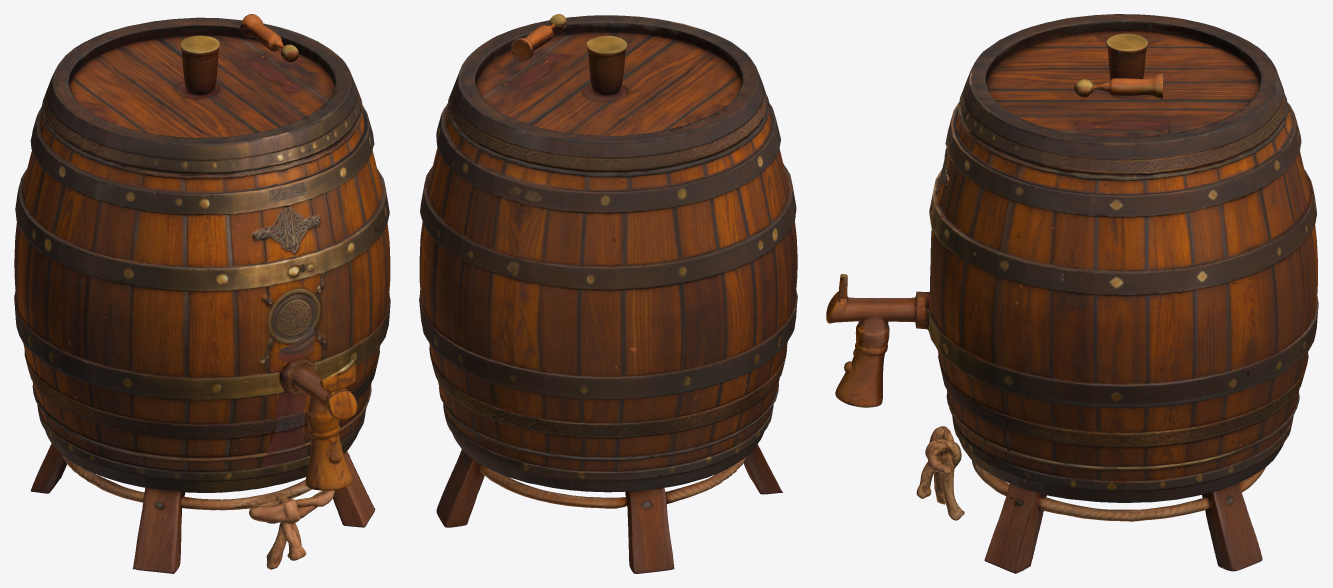
The model's file is A_large_hand_crafted_0721204021_texture.fbx.
The picture shows the model from 3 angles, left to right: view 1: azimuth 30°, elevation 25°; view 2: azimuth 150°, elevation 25°; view 3: azimuth 270°, elevation 25°; orthographic projection. The views are drawn at different scales.
Parts seen in each view (by area): view 1: Mesh_0; view 2: Mesh_0; view 3: Mesh_0.
Boxes of the visible parts, x1,y1,x2,y2 form: Mesh_0: [14, 14, 390, 573]; Mesh_0: [419, 14, 797, 573]; Mesh_0: [826, 14, 1318, 573].
Bounding box in the file's own units: 148 × 198 × 188.
Materials: 1 (1 with a texture image).
